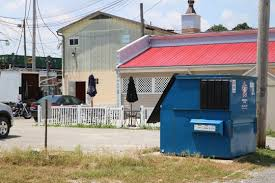Dumpster: (145, 72, 262, 164)
